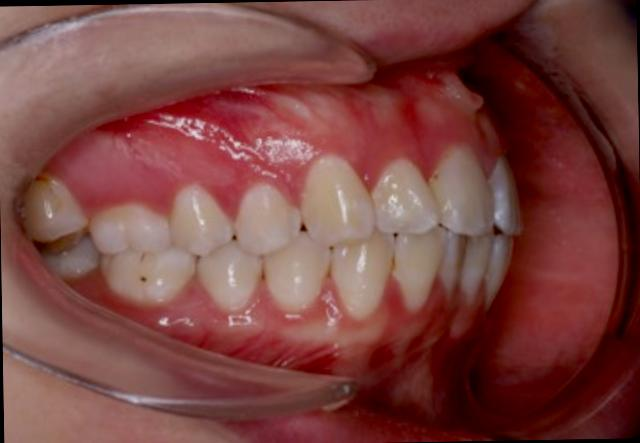canine class II 1/4: (262, 147, 398, 330)
molar class I: (84, 198, 200, 310)
